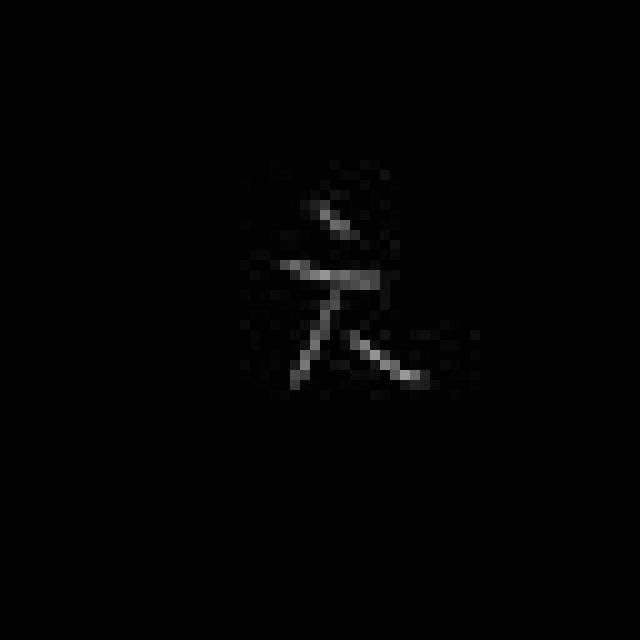6 -six-: (267, 194, 429, 400)
